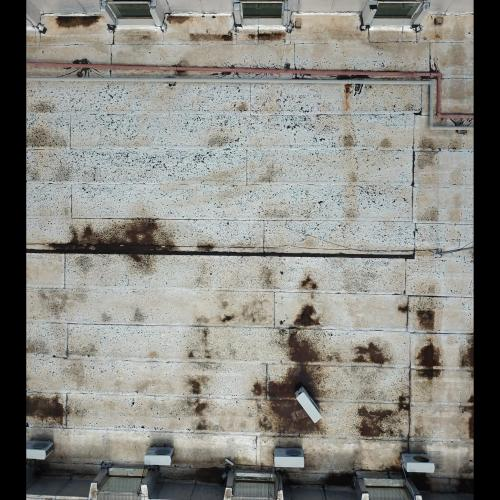conde: (294, 386, 326, 427), (398, 452, 439, 475), (271, 446, 308, 471), (143, 446, 178, 469), (27, 440, 57, 462)
